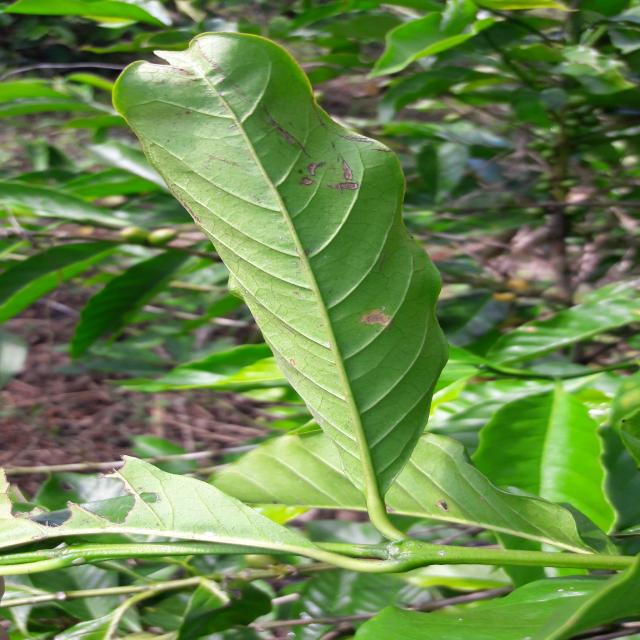Enfermedad-Roya: (112, 25, 448, 541)
